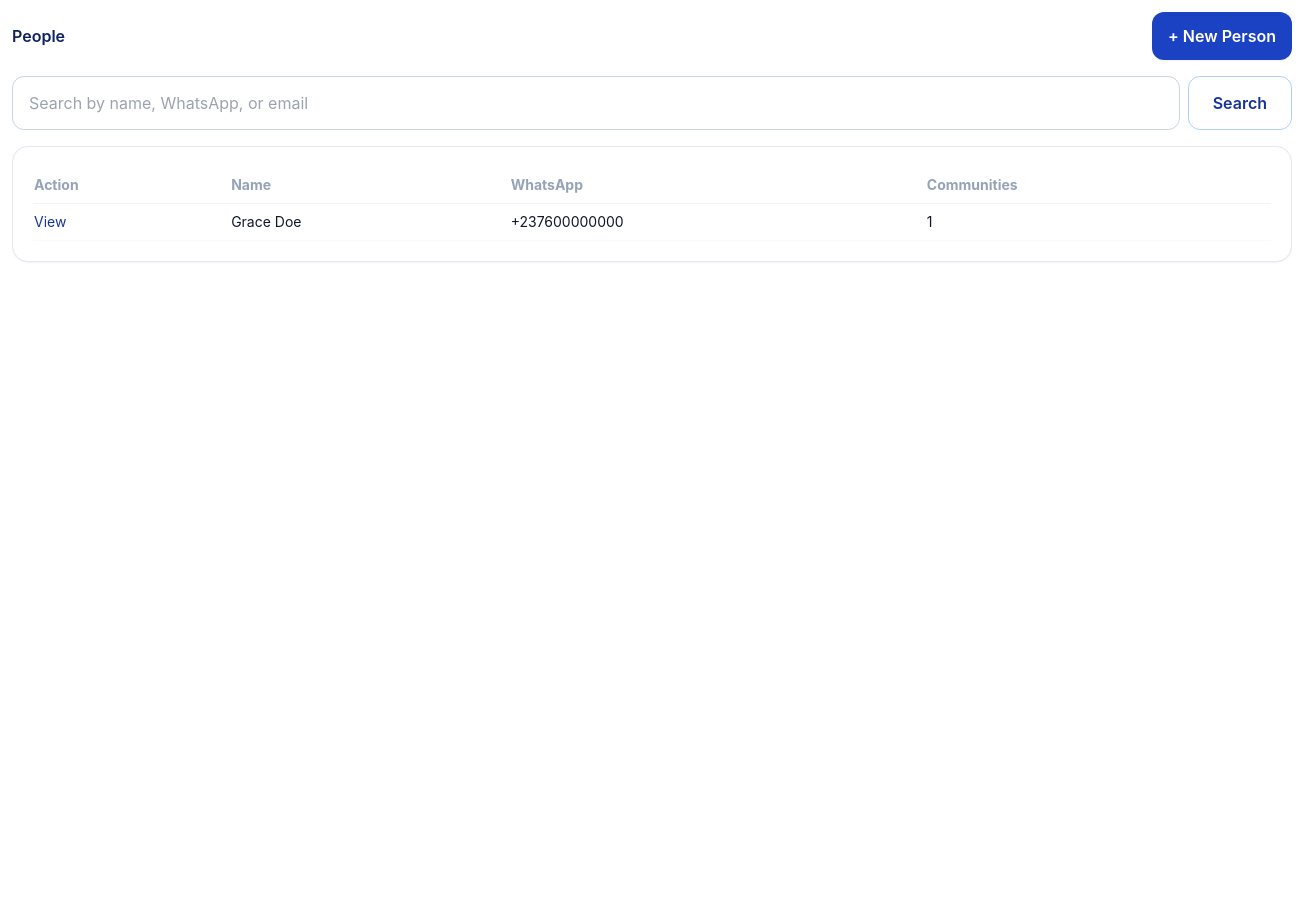
Scenario: PeopleTab — Member Reassignment (Move) › does not render a Move action for an INACTIVE membership
The image size is (1304, 912).
Click the button "View" at (50, 222), box left=34, top=212, right=66, bottom=232
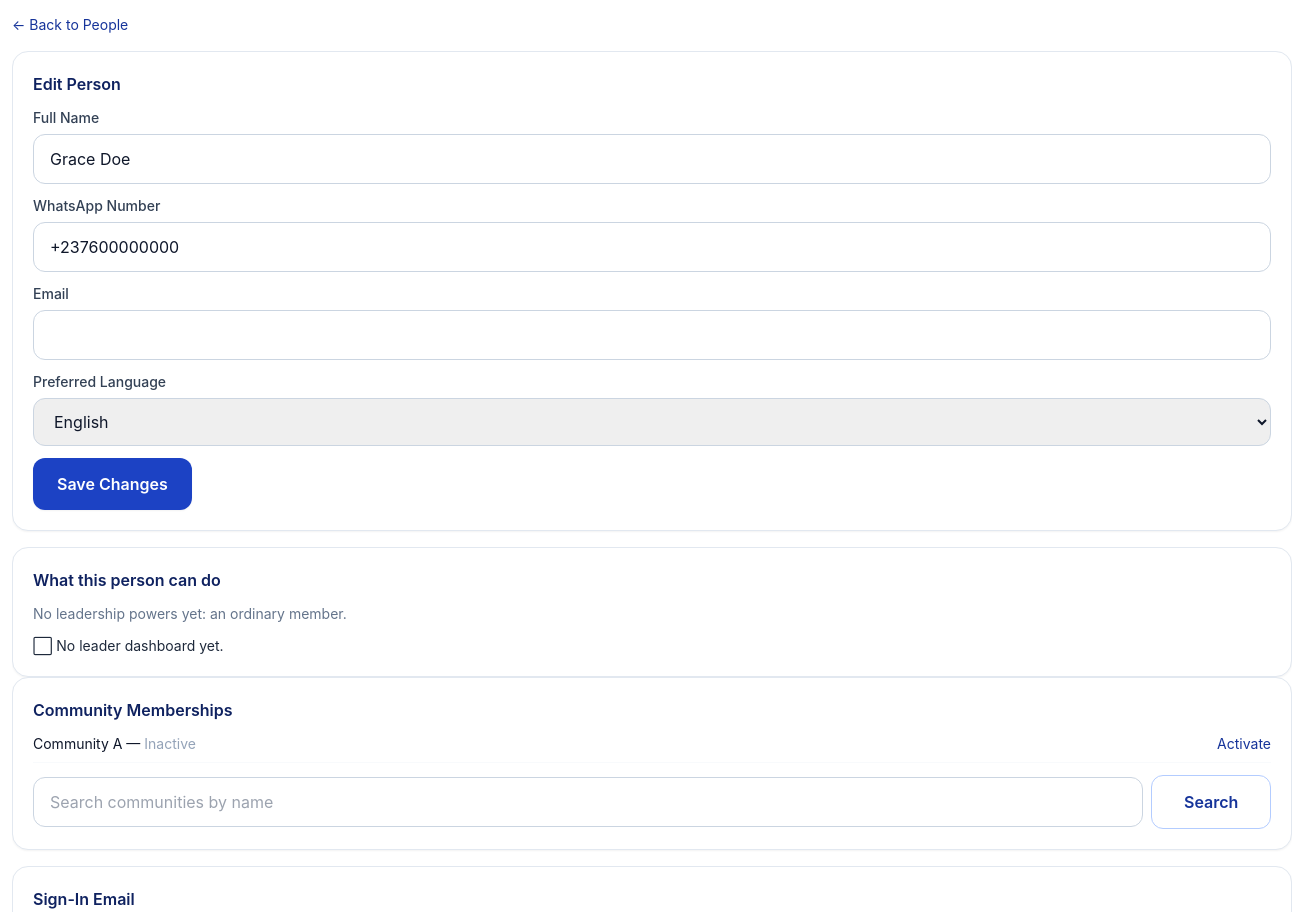
expect the text "Community A — Inactive" is shown: met, box left=33, top=734, right=196, bottom=754
